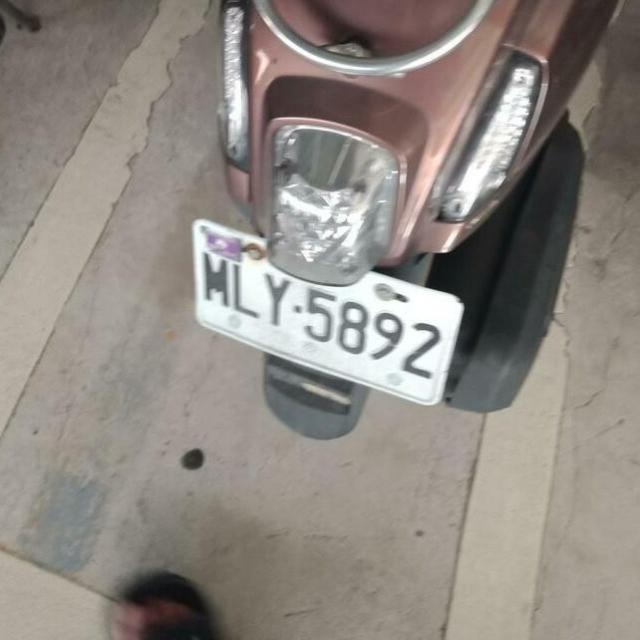W: (170, 214, 476, 419)
